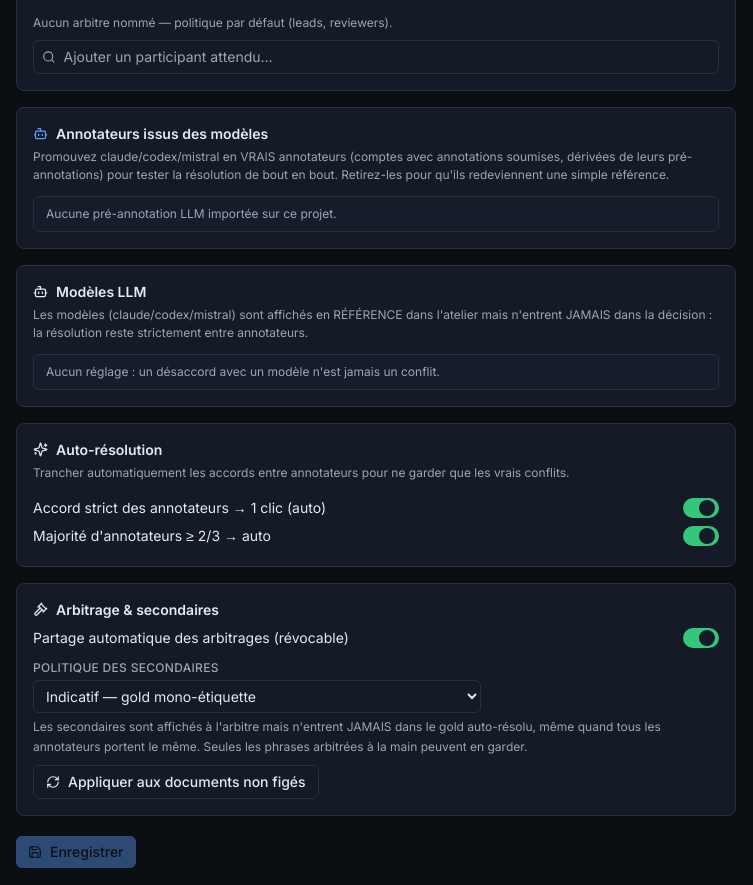
it: GoldConfigStudio › ⭐ applique la configuration aux documents non figés (sinon le réglage reste sans effet)
(page scrolled)
Click the button with test id "gold-recompute-all" at (176, 782), box [33,764,319,798]
(page scrolled)
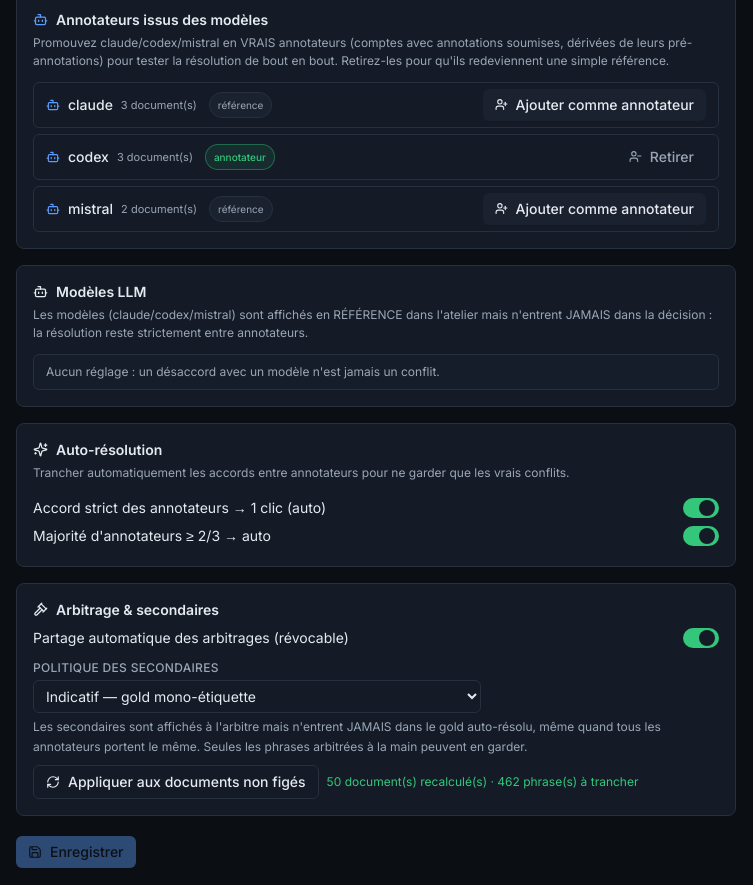
Expected: the text with test id "gold-recompute-result" shows "50 document(s) recalculé", [327,772,638,790]
Expected: the text with test id "gold-recompute-result" shows "462 phrase(s) à trancher", [327,772,638,790]
